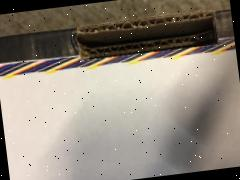cardboard: (0, 0, 236, 99)
